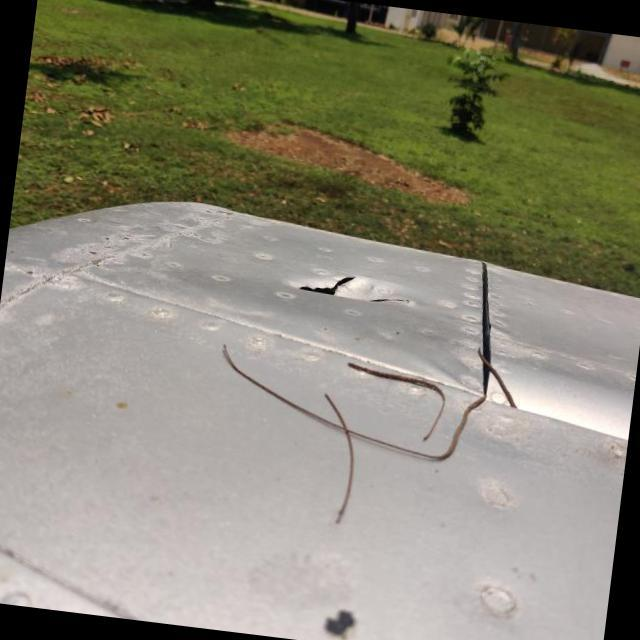Rupture: (271, 253, 425, 316)
